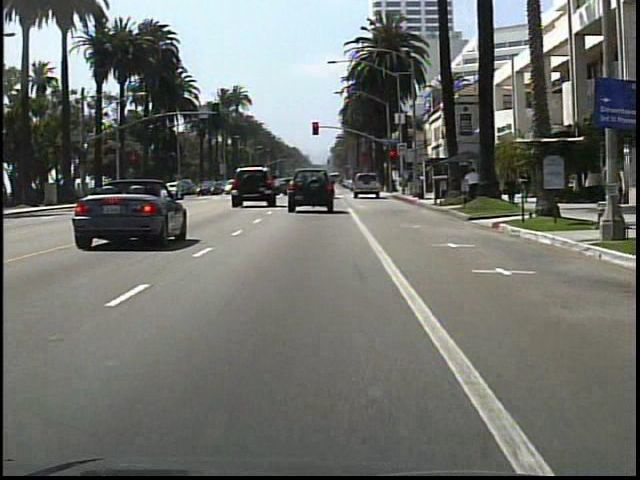person: (463, 165, 484, 204), (502, 163, 518, 208)
